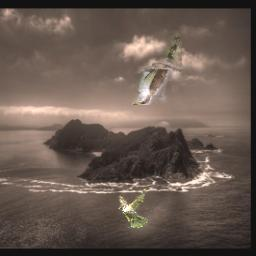Cuckoo: (132, 32, 182, 106)
Sparrow: (119, 188, 148, 229)
